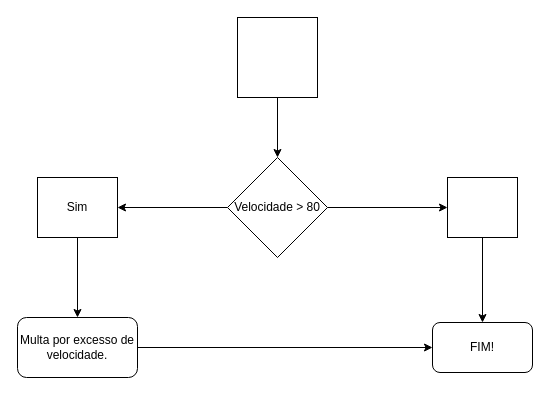
Image size: 550x395. Some labels were removed from this diagram. The centre of each missing label's shape, as x and y in pixels:
"Inserir velocidade" belongs at pixel 277 57.
"Não" belongs at pixel 482 207.
